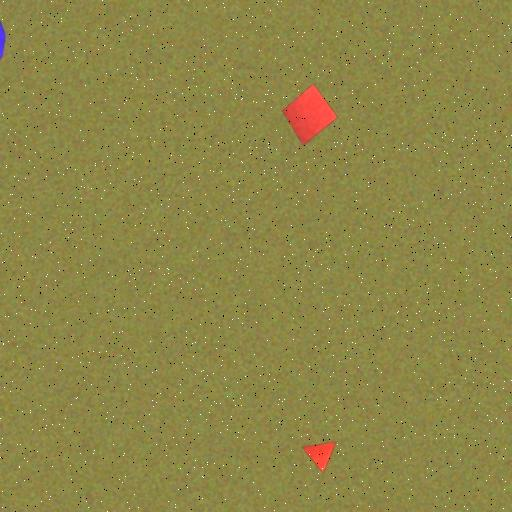RED_SQUARE: (282, 84, 339, 146)
